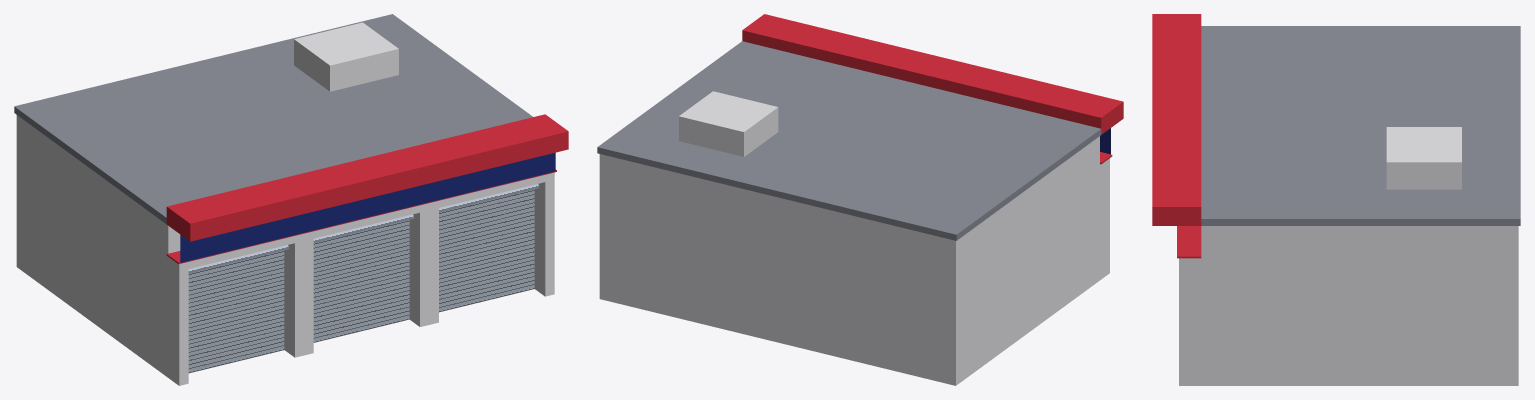
Rendered from pits.glb.
3 renders of one model, left to right at view 1: azimuth 30°, elevation 25°; view 2: azimuth 150°, elevation 25°; view 3: azimuth 270°, elevation 25°, orthographic. The views are drawn at different scales.
Parts seen in each view (by area): view 1: roof, wall, door, trim, sign; view 2: wall, roof, trim; view 3: roof, wall, trim.
Boxes of the visible parts, x1,y1,x2,y2 form: roof: (14, 14, 532, 223); wall: (16, 22, 554, 385); door: (188, 184, 539, 373); trim: (166, 114, 568, 264); sign: (180, 152, 555, 262); wall: (599, 91, 1109, 385); roof: (597, 41, 1101, 240); trim: (742, 14, 1123, 164); roof: (1201, 26, 1520, 225); wall: (1179, 127, 1518, 385); trim: (1152, 14, 1201, 258).
Bounding box in the file's own units: 12.1 × 5.7 × 9.75.
Materials: 5 (1 with a texture image).
